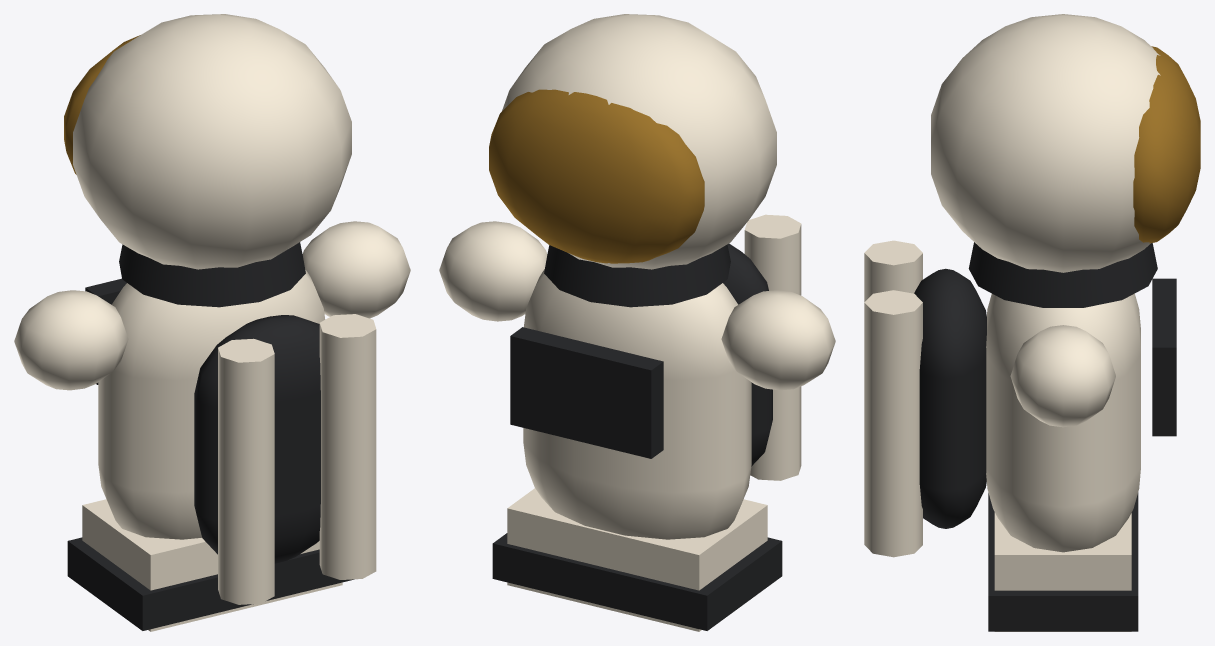
The model's file is alex.glb.
3 views of the same model, side by side, from view 1: azimuth 30°, elevation 25°; view 2: azimuth 150°, elevation 25°; view 3: azimuth 270°, elevation 25° (orthographic).
Visible parts, largest first — view 1: LOD0-suit, LOD0-graphite, LOD0-gold-reflective-visor; view 2: LOD0-suit, LOD0-graphite, LOD0-gold-reflective-visor; view 3: LOD0-suit, LOD0-graphite, LOD0-gold-reflective-visor.
Boxes of the visible parts, x1=… form: LOD0-suit: x1=14, y1=14, x2=410, y2=631; LOD0-graphite: x1=67, y1=242, x2=354, y2=630; LOD0-gold-reflective-visor: x1=64, y1=35, x2=140, y2=174; LOD0-suit: x1=439, y1=14, x2=835, y2=631; LOD0-graphite: x1=492, y1=243, x2=782, y2=630; LOD0-gold-reflective-visor: x1=489, y1=89, x2=704, y2=263; LOD0-suit: x1=864, y1=14, x2=1160, y2=631; LOD0-graphite: x1=914, y1=242, x2=1176, y2=631; LOD0-gold-reflective-visor: x1=1133, y1=46, x2=1200, y2=243.
Size of what is drawn, in the model's own units: 1.36 by 1.88 by 1.03.
